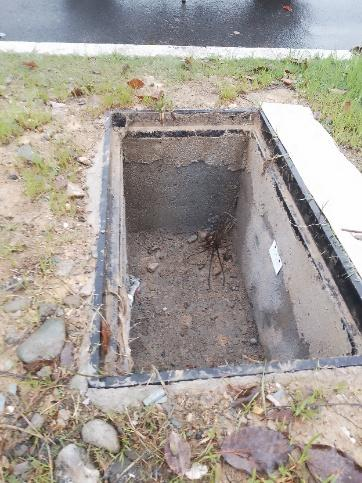wellcover: (85, 93, 362, 386)
